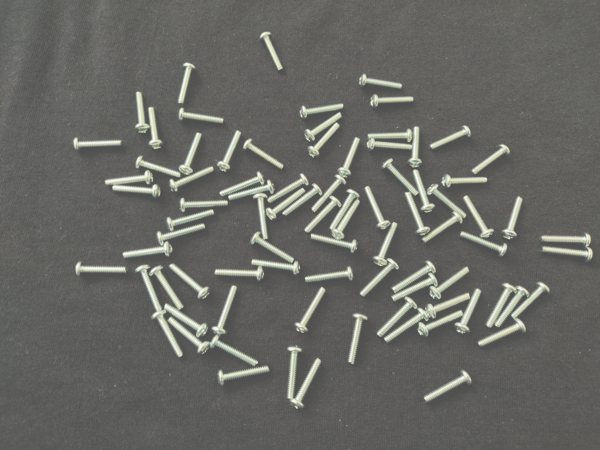longscrew: (289, 358, 323, 411), (376, 297, 418, 339), (167, 317, 211, 357), (423, 370, 473, 405), (383, 308, 430, 345), (151, 310, 185, 359), (168, 263, 211, 301), (210, 335, 261, 367), (149, 266, 185, 311), (164, 304, 210, 339), (360, 258, 400, 298), (510, 281, 551, 320), (294, 287, 328, 334), (391, 260, 437, 294), (484, 283, 518, 329), (381, 158, 420, 197), (250, 231, 296, 264), (495, 285, 530, 328), (134, 265, 164, 315), (477, 319, 527, 349), (304, 196, 343, 234), (311, 174, 348, 214), (427, 184, 468, 220), (429, 267, 471, 302), (282, 183, 323, 218), (212, 285, 240, 336), (417, 310, 464, 340), (463, 195, 495, 239), (266, 188, 307, 222), (391, 273, 439, 302), (243, 138, 285, 171), (421, 212, 463, 245), (453, 289, 483, 335), (460, 231, 509, 259), (266, 173, 310, 204), (329, 189, 360, 231), (307, 122, 342, 159), (331, 199, 362, 240), (404, 192, 432, 237), (304, 111, 343, 143), (217, 365, 271, 388), (169, 167, 214, 194), (372, 222, 399, 267), (364, 186, 391, 231), (426, 293, 471, 320), (471, 144, 510, 175), (156, 223, 206, 247), (219, 172, 266, 197), (429, 125, 472, 152), (135, 155, 183, 179), (309, 232, 359, 255), (216, 131, 243, 173), (412, 169, 437, 214), (501, 196, 526, 241), (347, 313, 368, 366), (167, 209, 215, 232), (179, 132, 203, 176), (229, 180, 276, 202), (259, 31, 284, 72), (122, 241, 173, 261), (304, 265, 355, 285), (285, 345, 303, 400), (337, 137, 361, 178), (540, 246, 594, 264), (75, 261, 129, 278), (105, 170, 155, 188), (251, 259, 301, 277), (177, 62, 197, 106), (299, 102, 345, 121), (214, 266, 265, 283), (178, 107, 226, 125), (179, 197, 229, 214), (252, 193, 270, 240), (358, 73, 404, 91), (539, 233, 593, 248), (111, 183, 161, 199), (441, 173, 488, 190), (134, 91, 151, 135), (407, 125, 424, 169), (367, 127, 413, 143), (370, 94, 415, 110), (148, 106, 164, 150), (367, 138, 413, 153), (73, 138, 123, 150)
